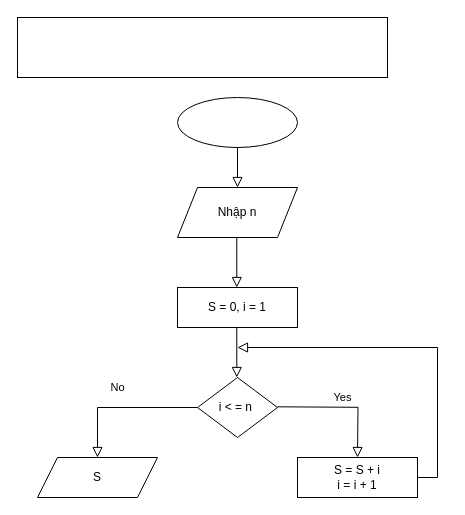
Image size: 465x515. Some labels were removed from this diagram. The shapes that lost their labels are listed below. From the top down, each one's centre as x and y in pixels, then its label:
At (202,47): "Nhập số nguyên dương n. Tính S = 1 + 2 + ... + n.".
At (237,122): "Bắt đầu".
